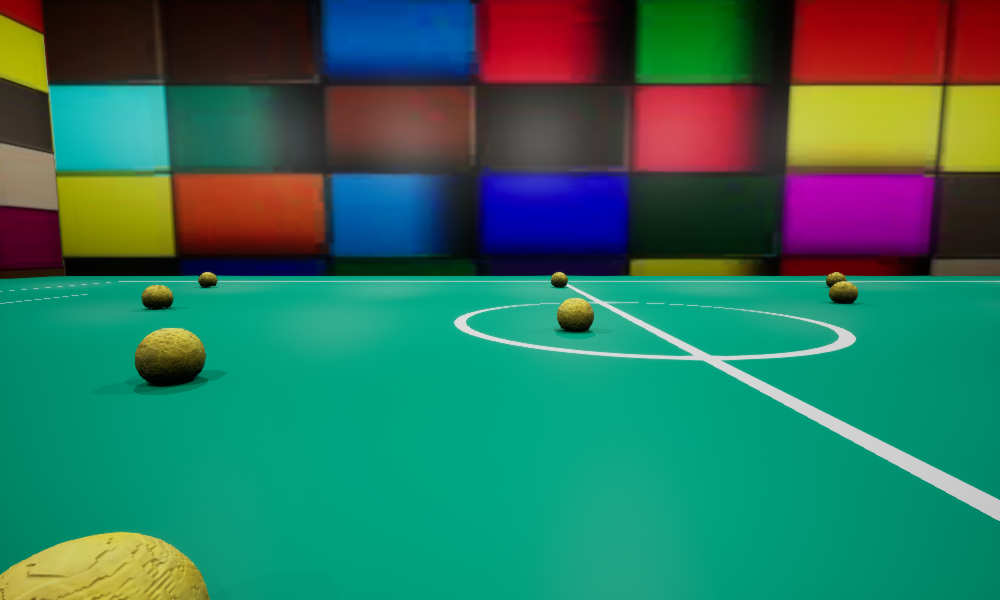b: (0, 532, 209, 599), (135, 328, 205, 384), (557, 298, 593, 330), (141, 285, 173, 308), (829, 281, 857, 303), (826, 272, 846, 286), (198, 272, 217, 286), (551, 272, 567, 286)
